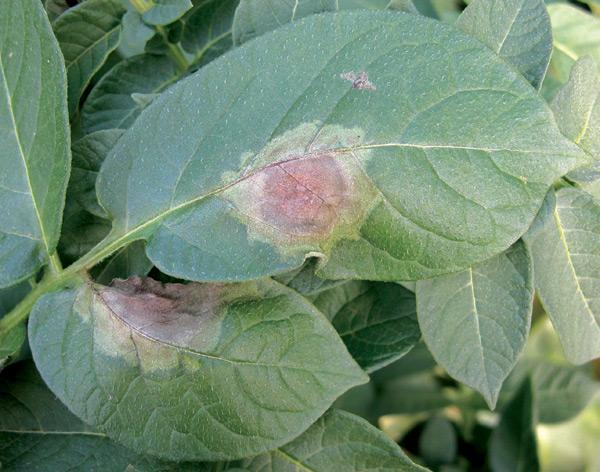Potato leaf late blight: (93, 5, 595, 286), (27, 271, 375, 455)
